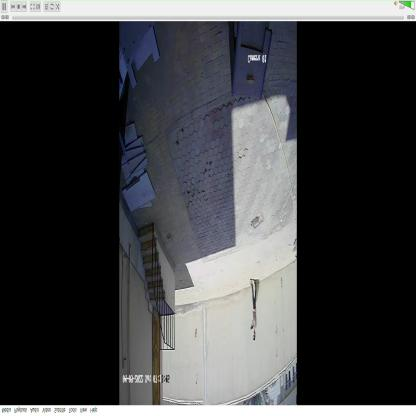handgun: (249, 319, 256, 332)
